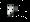person: (9, 5, 19, 18)
